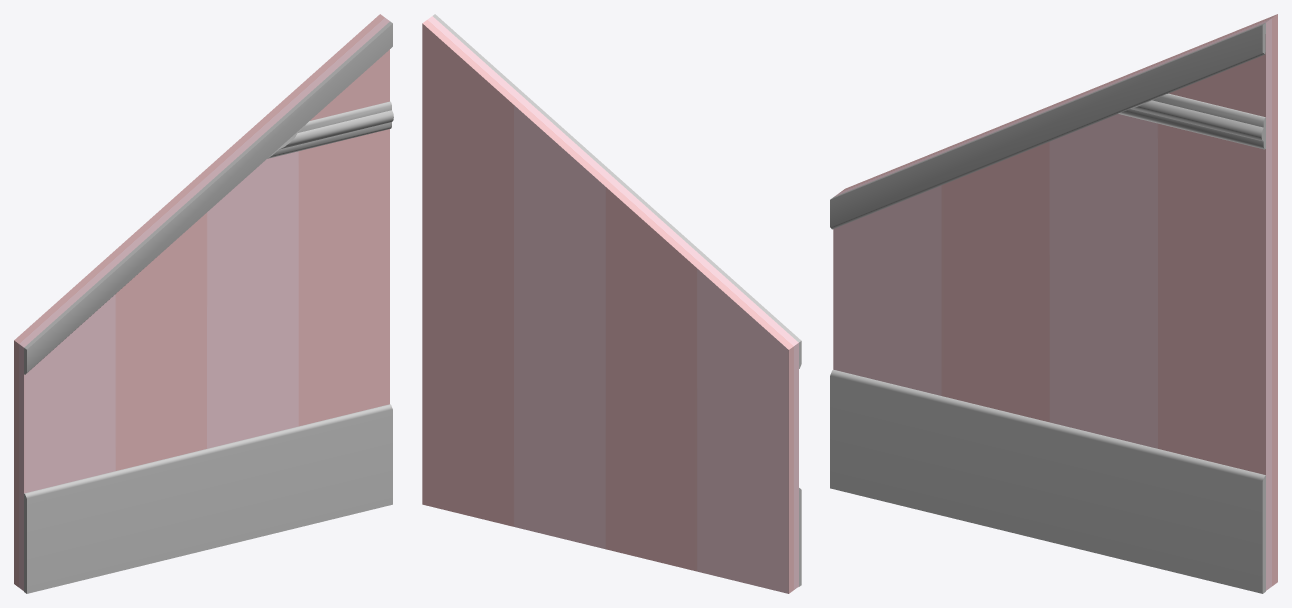
Rendered from Wall_Interior_Angled_7.fbx.
3 renders of one model, left to right at view 1: azimuth 30°, elevation 25°; view 2: azimuth 150°, elevation 25°; view 3: azimuth 330°, elevation 25°, orthographic. The views are drawn at different scales.
Parts seen in each view (by area): view 1: Wall_Interior_Angled; view 2: Wall_Interior_Angled; view 3: Wall_Interior_Angled.
Boxes of the visible parts, <box> form: Wall_Interior_Angled: <box>14,14,393,593</box>; Wall_Interior_Angled: <box>422,14,801,593</box>; Wall_Interior_Angled: <box>830,14,1277,593</box>.
Size of the model in its own units: 1 by 1.26 by 0.0649.
